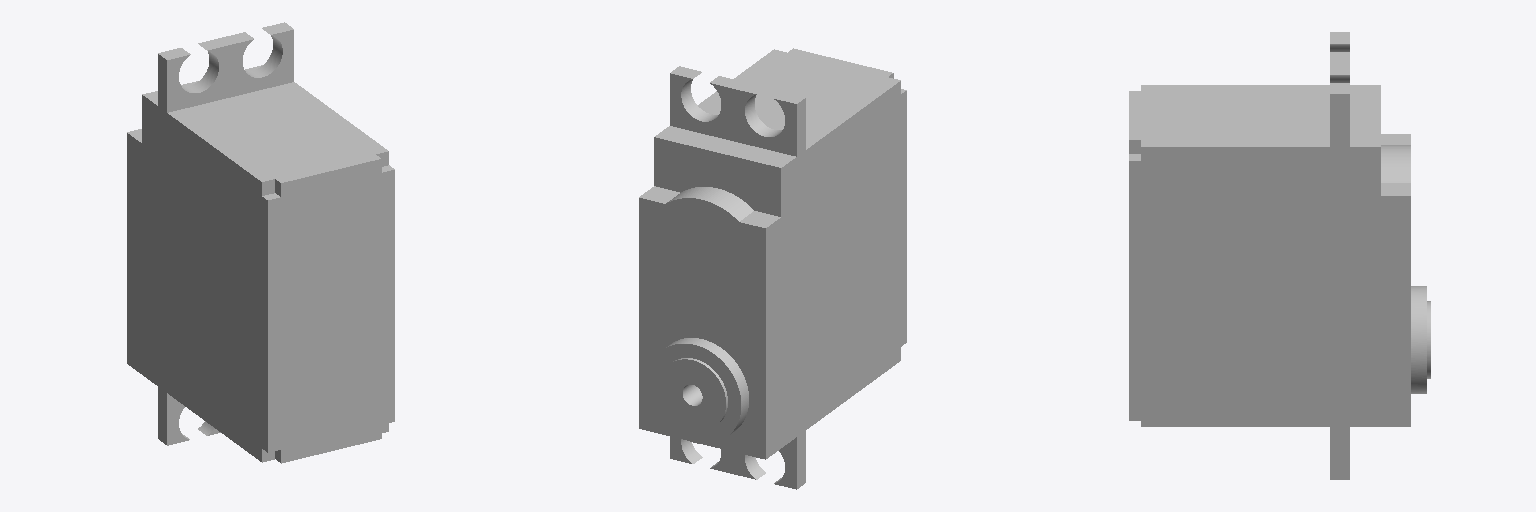
Rendered from motor_pequeño.obj.
The picture shows the model from 3 angles: view 1: azimuth 30°, elevation 25°; view 2: azimuth 150°, elevation 25°; view 3: azimuth 270°, elevation 25°; orthographic projection.
Parts seen in each view (by area): view 1: Cut_Extrude6; view 2: Cut_Extrude6; view 3: Cut_Extrude6.
Boxes of the visible parts, <box> form: Cut_Extrude6: <box>127,22,394,463</box>; Cut_Extrude6: <box>639,48,906,489</box>; Cut_Extrude6: <box>1129,32,1430,479</box>.
Bounding box in the file's own units: 7.48 × 21.65 × 15.35.